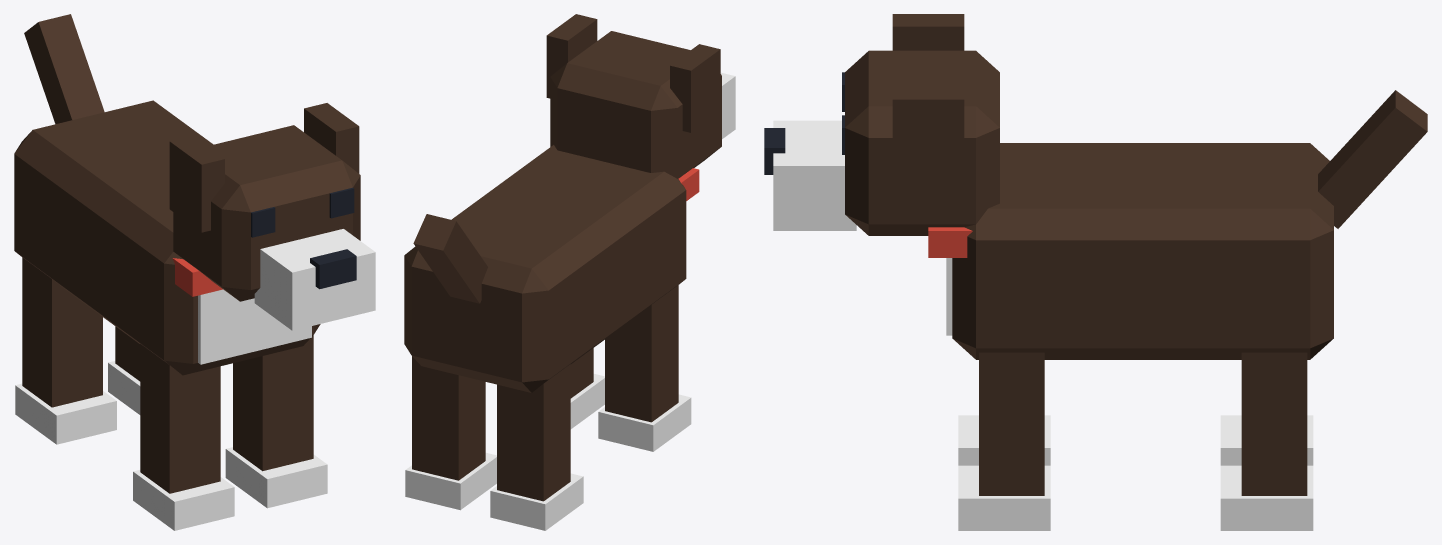
The model's file is dog.glb.
The picture shows the model from 3 angles, left to right: view 1: azimuth 30°, elevation 25°; view 2: azimuth 150°, elevation 25°; view 3: azimuth 270°, elevation 25°; orthographic projection. The views are drawn at different scales.
Parts seen in each view (by area): view 1: body, head, leg_FL, leg_RL, leg_FR, tail, paw_FR, paw_FL, paw_RL, paw_RR, leg_RR; view 2: body, head, leg_RL, leg_FL, leg_RR, tail, paw_RL, paw_FL, paw_RR, paw_FR, leg_FR; view 3: body, head, leg_RR, leg_FR, tail, paw_RR, paw_FR, paw_RL, paw_FL.
Part boxes in pixels (x1,y1,x2,y2): body: [14, 100, 320, 375]; head: [169, 103, 375, 330]; leg_FL: [140, 344, 220, 493]; leg_RL: [22, 257, 102, 407]; leg_FR: [233, 335, 313, 471]; tail: [24, 14, 104, 124]; paw_FR: [225, 447, 327, 508]; paw_FL: [133, 470, 234, 530]; paw_RL: [15, 383, 116, 444]; paw_RR: [108, 361, 140, 414]; leg_RR: [115, 326, 140, 381]; body: [404, 145, 686, 392]; head: [546, 14, 735, 200]; leg_RL: [497, 364, 570, 501]; leg_FL: [605, 285, 678, 422]; leg_RR: [412, 356, 485, 480]; tail: [413, 214, 487, 303]; paw_RL: [490, 473, 583, 530]; paw_FL: [598, 394, 691, 451]; paw_RR: [405, 452, 496, 510]; paw_FR: [570, 374, 604, 429]; leg_FR: [570, 348, 593, 398]; body: [946, 143, 1333, 359]; head: [764, 14, 999, 257]; leg_RR: [1241, 352, 1307, 495]; leg_FR: [979, 352, 1044, 495]; tail: [1318, 90, 1427, 228]; paw_RR: [1220, 465, 1313, 530]; paw_FR: [958, 465, 1050, 530]; paw_RL: [1220, 415, 1313, 465]; paw_FL: [958, 415, 1050, 465].
Bounding box in the file's own units: 0.34 × 0.8 × 1.11.
